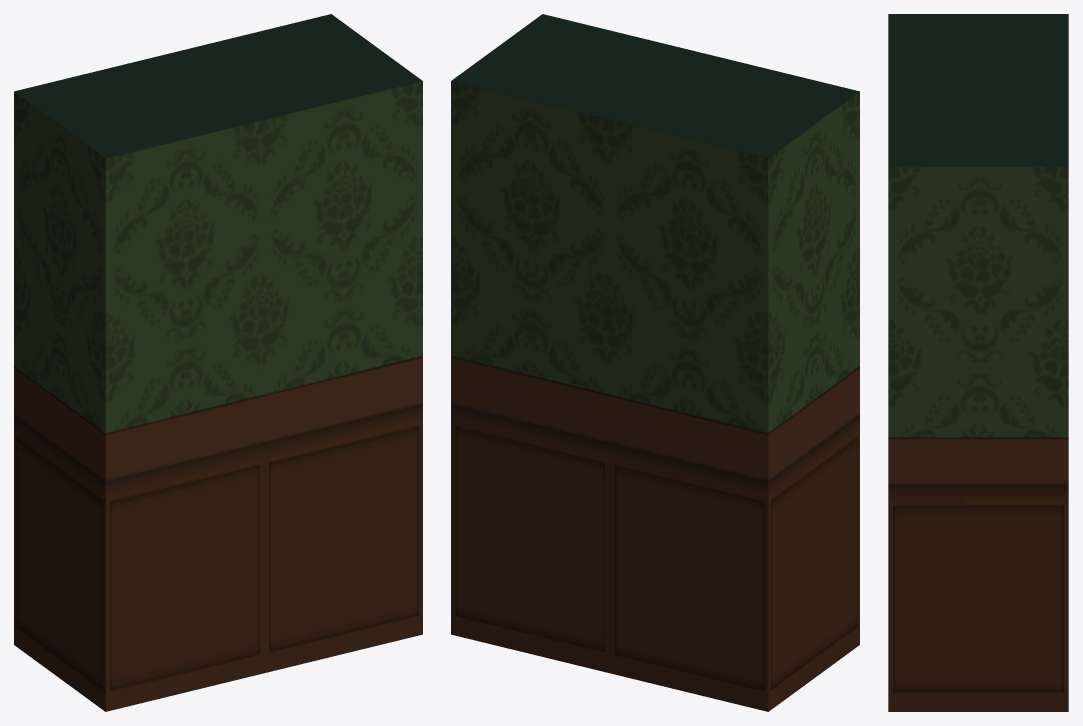
Rendered from Onion_Wall.fbx.
3 renders of one model, left to right at view 1: azimuth 30°, elevation 25°; view 2: azimuth 150°, elevation 25°; view 3: azimuth 270°, elevation 25°, orthographic.
Parts seen in each view (by area): view 1: Onion_Wall; view 2: Onion_Wall; view 3: Onion_Wall.
Boxes of the visible parts, <box> form: Onion_Wall: <box>14,14,422,711</box>; Onion_Wall: <box>451,14,859,711</box>; Onion_Wall: <box>888,14,1068,711</box>.
Bounding box in the file's own units: 1.2 × 2 × 0.6.
